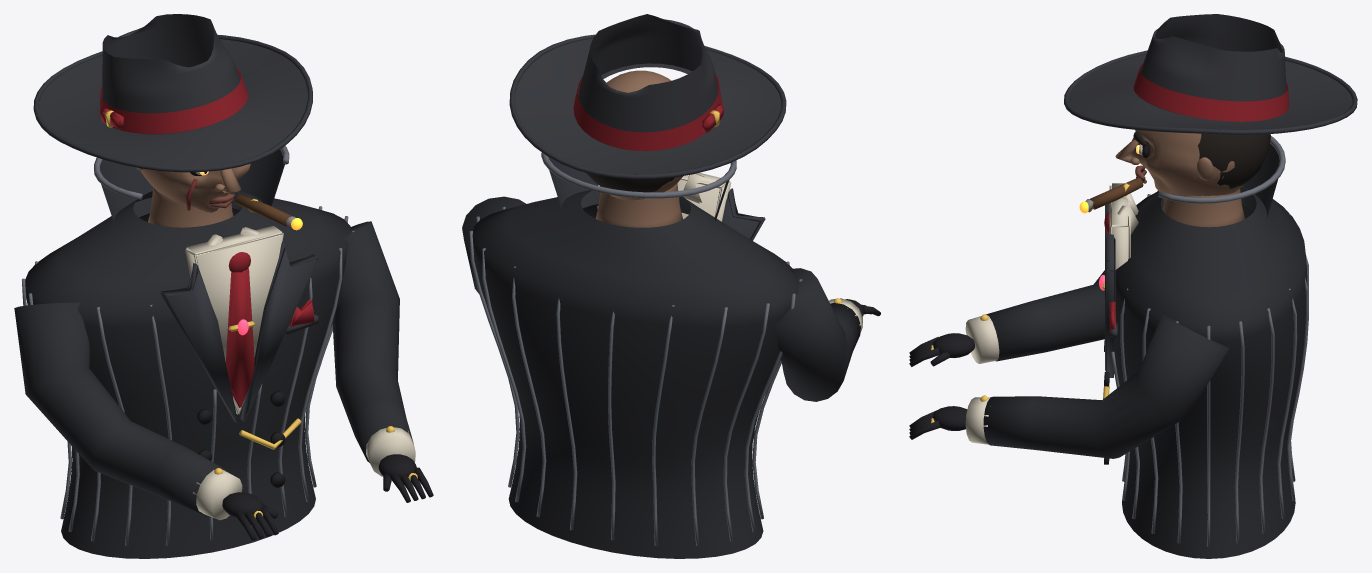
File: opp_prohibicia.glb
The picture shows the model from 3 angles, left to right: view 1: azimuth 30°, elevation 25°; view 2: azimuth 150°, elevation 25°; view 3: azimuth 270°, elevation 25°; orthographic projection. The views are drawn at different scales.
Parts seen in each view (by area): view 1: CharcoalSuitBody, PinstripeCoatSleeve_L, FedoraSnapBrim, PinstripeCoatSleeve_R, FedoraPinchedCrown, IvoryDressShirt, BroadPeakedLapel_R, BroadPeakedLapel_L, UpturnedTrenchCollar, CrimsonSilkHatband, FedoraBrimBinding, CrimsonSilkTie (+13 smaller); view 2: CharcoalSuitBody, FedoraSnapBrim, FedoraPinchedCrown, PinstripeCoatSleeve_L, FedoraBrimBinding, CrimsonSilkHatband, SculptedNeck, TrenchCollarEdgePiping, UpturnedTrenchCollar, SculptedHead, PinstripeCoatSleeve_R, IvoryDressShirt (+12 smaller); view 3: CharcoalSuitBody, PinstripeCoatSleeve_R, FedoraPinchedCrown, FedoraSnapBrim, PinstripeCoatSleeve_L, SculptedHead, CrimsonSilkHatband, SlickedBackHair, FedoraBrimBinding, SculptedNeck, BroadPeakedLapel_R, IvoryDressShirt (+14 smaller).
Part boxes in pixels (<box>): CharcoalSuitBody: <box>25,191,351,558</box>; PinstripeCoatSleeve_L: <box>14,302,227,514</box>; FedoraSnapBrim: <box>38,39,307,167</box>; PinstripeCoatSleeve_R: <box>332,221,412,462</box>; FedoraPinchedCrown: <box>102,14,240,134</box>; IvoryDressShirt: <box>185,225,283,414</box>; BroadPeakedLapel_R: <box>240,241,318,421</box>; BroadPeakedLapel_L: <box>160,263,237,423</box>; UpturnedTrenchCollar: <box>100,149,284,222</box>; CrimsonSilkHatband: <box>100,68,247,134</box>; FedoraBrimBinding: <box>33,34,312,172</box>; CrimsonSilkTie: <box>225,268,254,407</box>; CharcoalSuitBody: <box>472,190,798,558</box>; FedoraSnapBrim: <box>514,38,781,174</box>; FedoraPinchedCrown: <box>578,14,718,132</box>; PinstripeCoatSleeve_L: <box>774,268,860,401</box>; FedoraBrimBinding: <box>509,34,786,179</box>; CrimsonSilkHatband: <box>573,72,722,151</box>; SculptedNeck: <box>595,183,682,227</box>; TrenchCollarEdgePiping: <box>541,152,736,198</box>; UpturnedTrenchCollar: <box>548,157,729,221</box>; SculptedHead: <box>600,70,683,200</box>; PinstripeCoatSleeve_R: <box>462,196,525,296</box>; IvoryDressShirt: <box>677,172,731,221</box>; CharcoalSuitBody: <box>1114,186,1307,558</box>; PinstripeCoatSleeve_R: <box>983,312,1229,458</box>; FedoraPinchedCrown: <box>1140,14,1286,116</box>; FedoraSnapBrim: <box>1068,54,1352,129</box>; PinstripeCoatSleeve_L: <box>986,190,1164,361</box>; SculptedHead: <box>1129,129,1245,195</box>; CrimsonSilkHatband: <box>1133,63,1288,121</box>; SlickedBackHair: <box>1198,133,1270,188</box>; FedoraBrimBinding: <box>1064,50,1357,134</box>; SculptedNeck: <box>1162,189,1245,227</box>; BroadPeakedLapel_R: <box>1105,234,1115,377</box>; IvoryDressShirt: <box>1109,183,1130,269</box>.
Bounding box in the file's own units: 0.6854 × 0.8648 × 0.7478.
